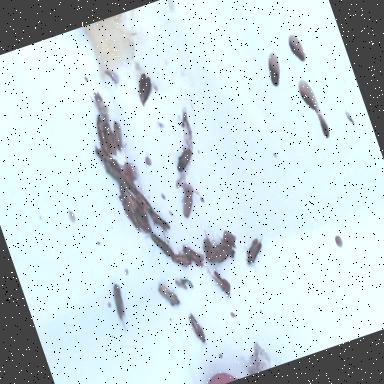pbw: (240, 232, 274, 274), (108, 282, 134, 332), (174, 180, 204, 218), (90, 112, 114, 156), (208, 264, 234, 300), (127, 186, 150, 226), (181, 238, 208, 272), (185, 310, 209, 348), (88, 88, 113, 124), (92, 140, 120, 172), (157, 279, 183, 311), (150, 228, 176, 260), (101, 118, 120, 156), (122, 198, 142, 234), (147, 204, 171, 234), (134, 186, 155, 218), (108, 119, 128, 151), (118, 182, 138, 214), (172, 148, 197, 172), (119, 164, 138, 195), (134, 207, 153, 235), (170, 248, 193, 271), (173, 271, 188, 292)
